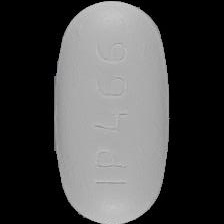66116-368: (0, 0, 224, 224)
